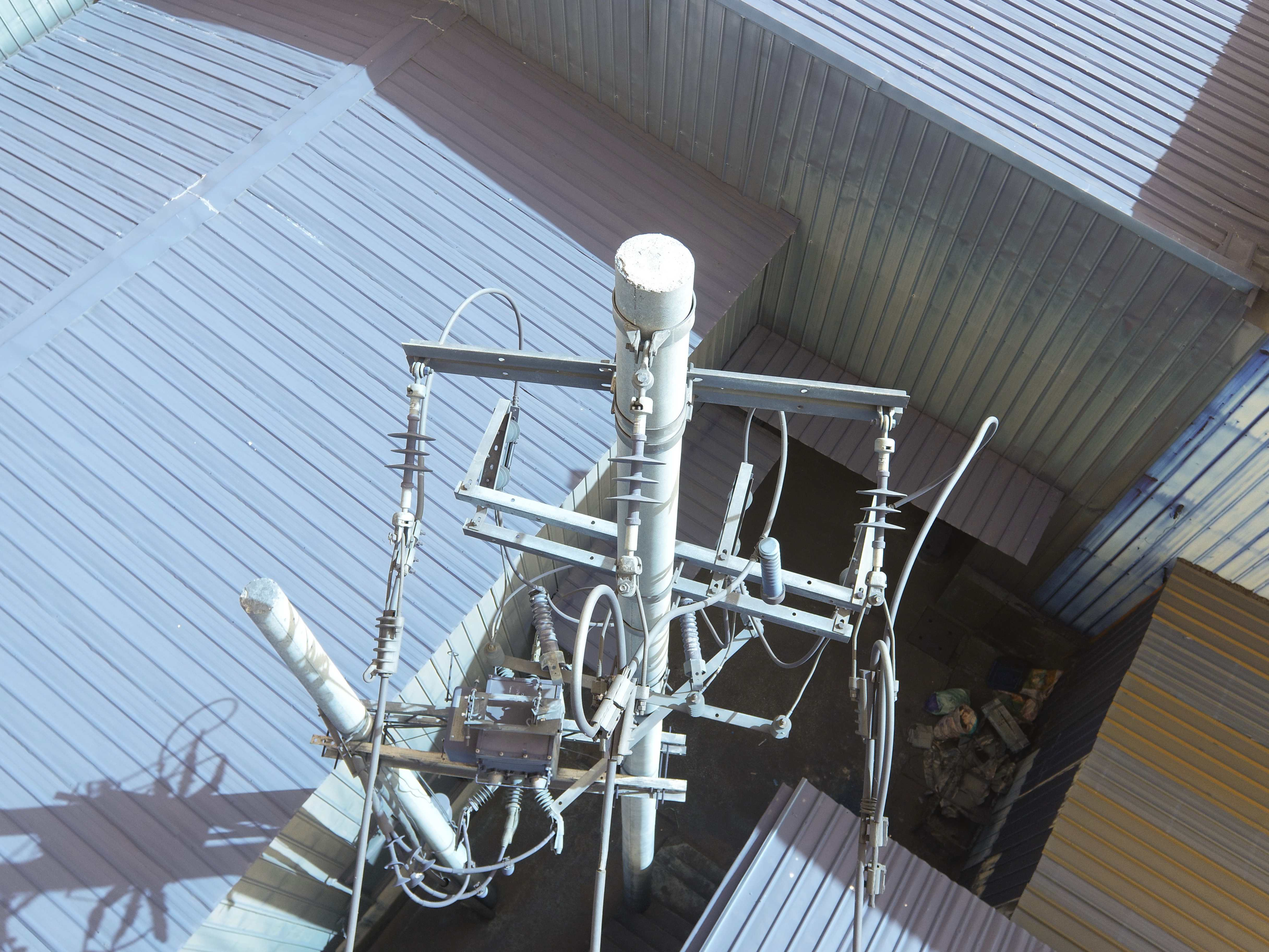severe_soiling_no_discharge_whole: (527, 586, 567, 668), (679, 612, 710, 677)
